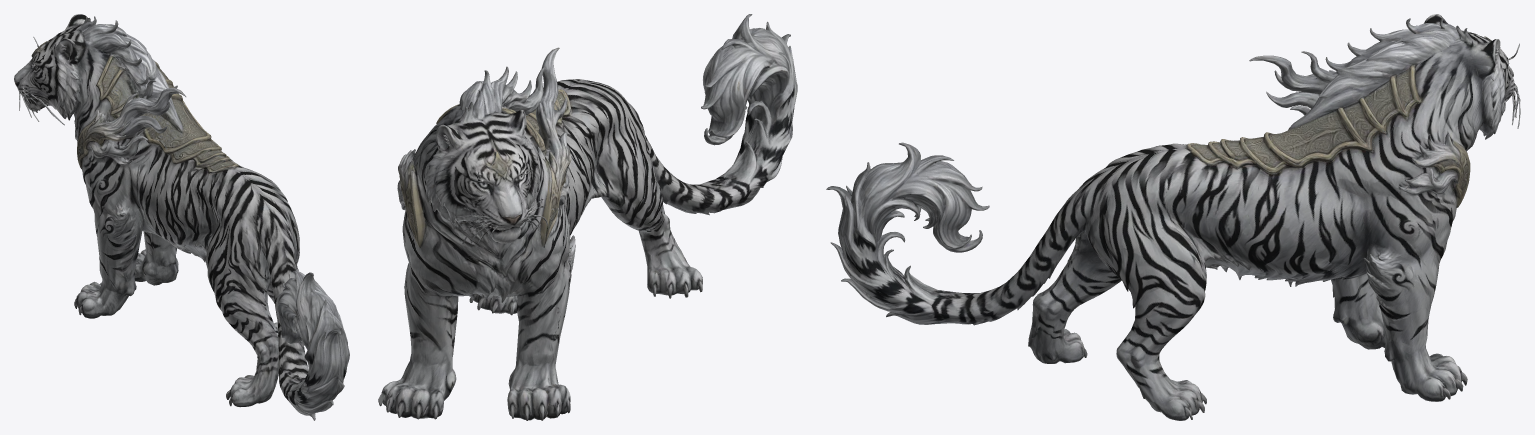
Rendered from tiger-lite.glb.
The picture shows the model from 3 angles, left to right: view 1: azimuth 30°, elevation 25°; view 2: azimuth 150°, elevation 25°; view 3: azimuth 270°, elevation 25°; orthographic projection. The views are drawn at different scales.
Parts seen in each view (by area): view 1: Object_01; view 2: Object_01; view 3: Object_01.
Part boxes in pixels (box(x1,y1,x2,y2)): Object_01: box(14, 14, 349, 420); Object_01: box(378, 14, 797, 420); Object_01: box(826, 14, 1520, 420).
Size of the model in its own units: 0.6531 by 0.9997 by 1.83.
Materials: 1 (1 with a texture image).
